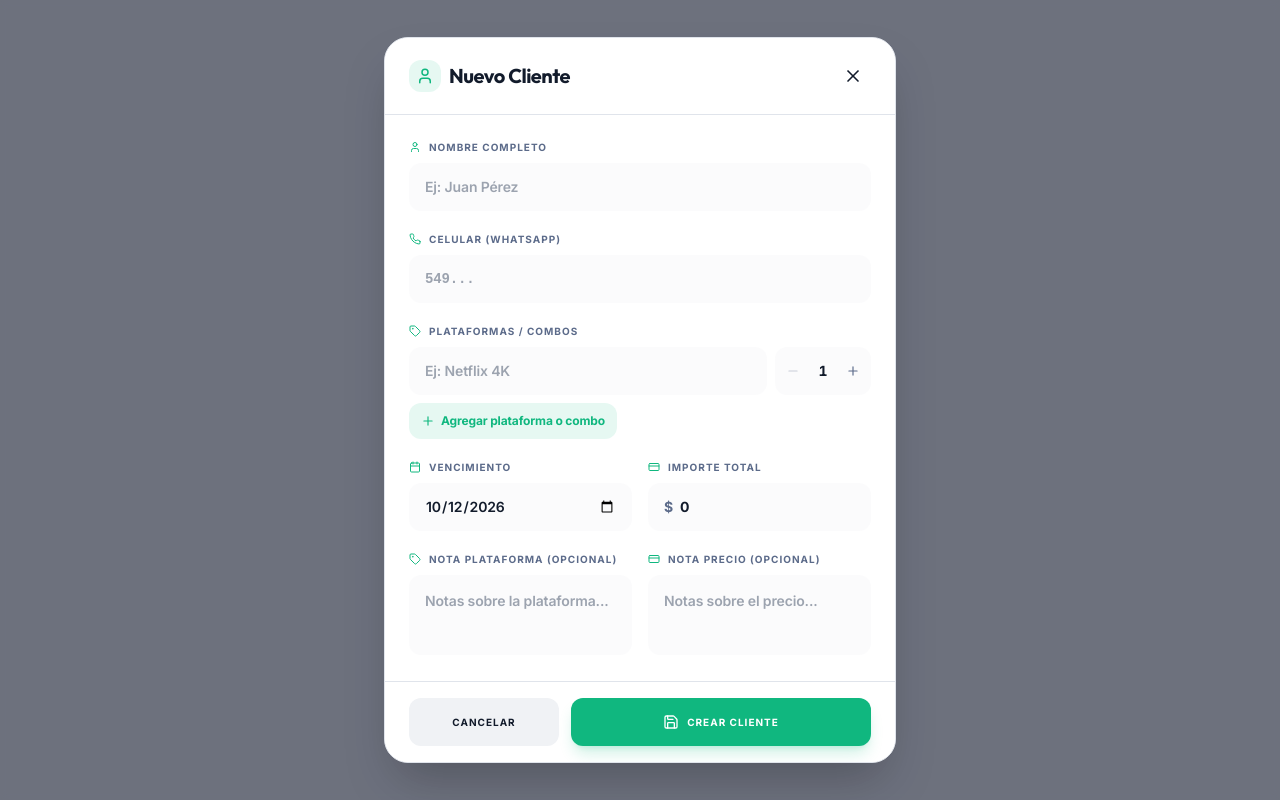
Test case: ClientDialog › al elegir un plan del catálogo propone su precio
Type "netflix 4k" into the field with placeholder "Ej: Netflix 4K" at (588, 371), box left=409, top=347, right=767, bottom=395
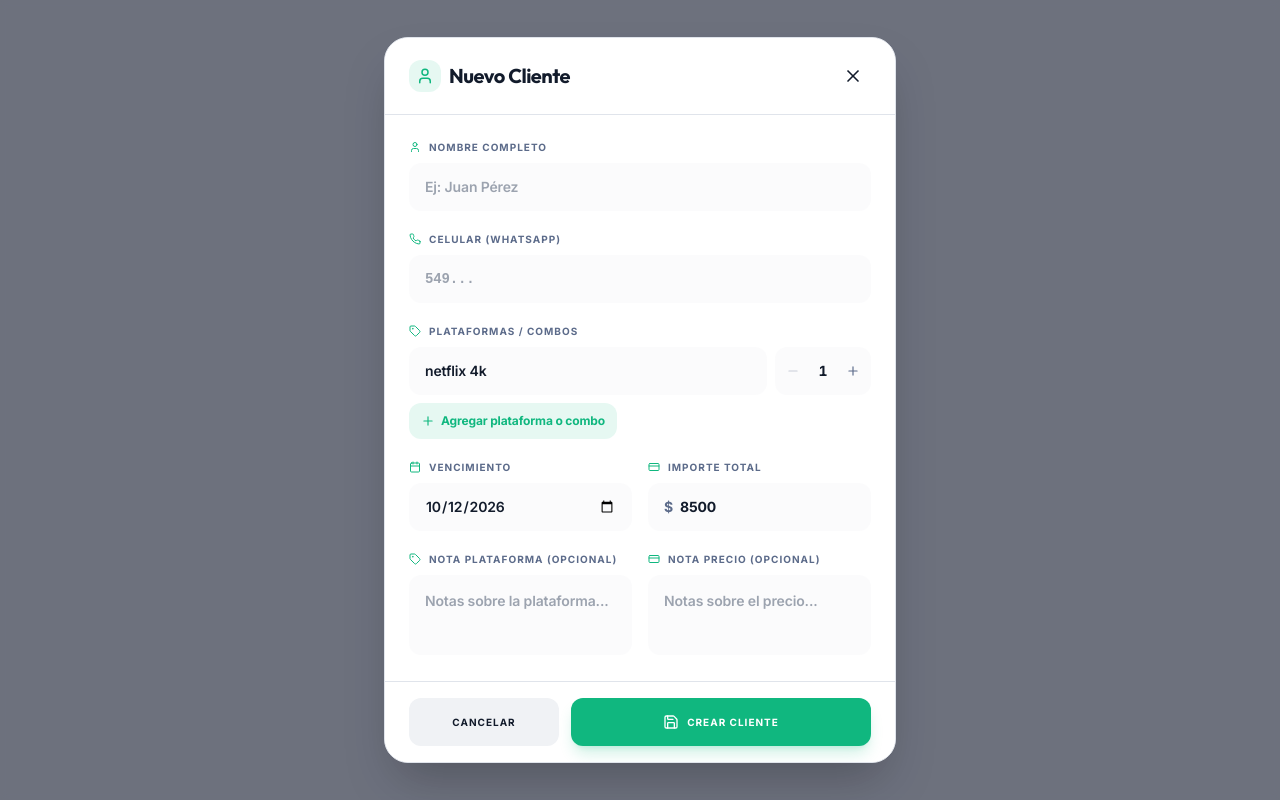
Expected: the number field with placeholder "0" holds "8500", left=648, top=483, right=871, bottom=531
